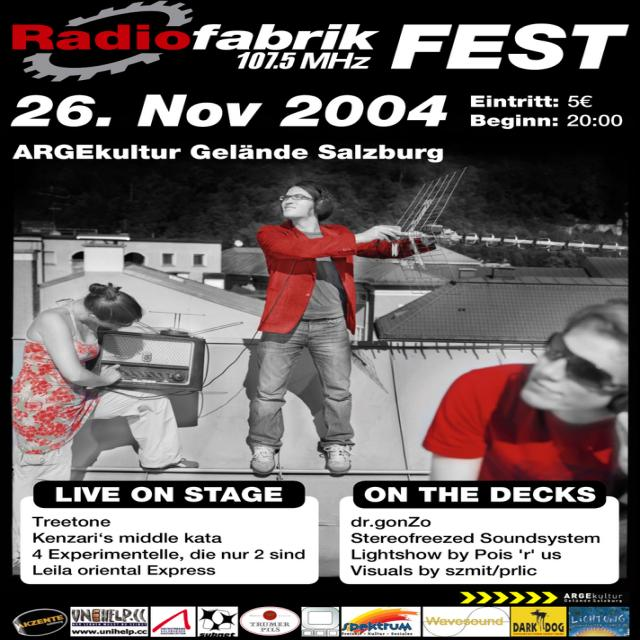Glasses: (539, 332, 629, 392), (276, 191, 317, 208)
